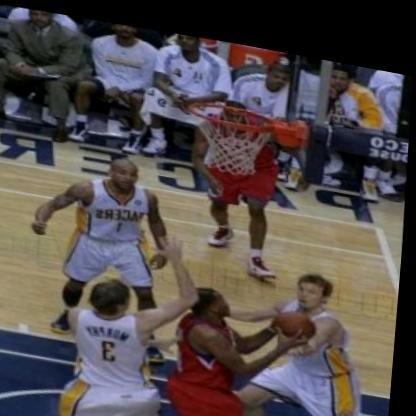basketball: (268, 289, 325, 339)
